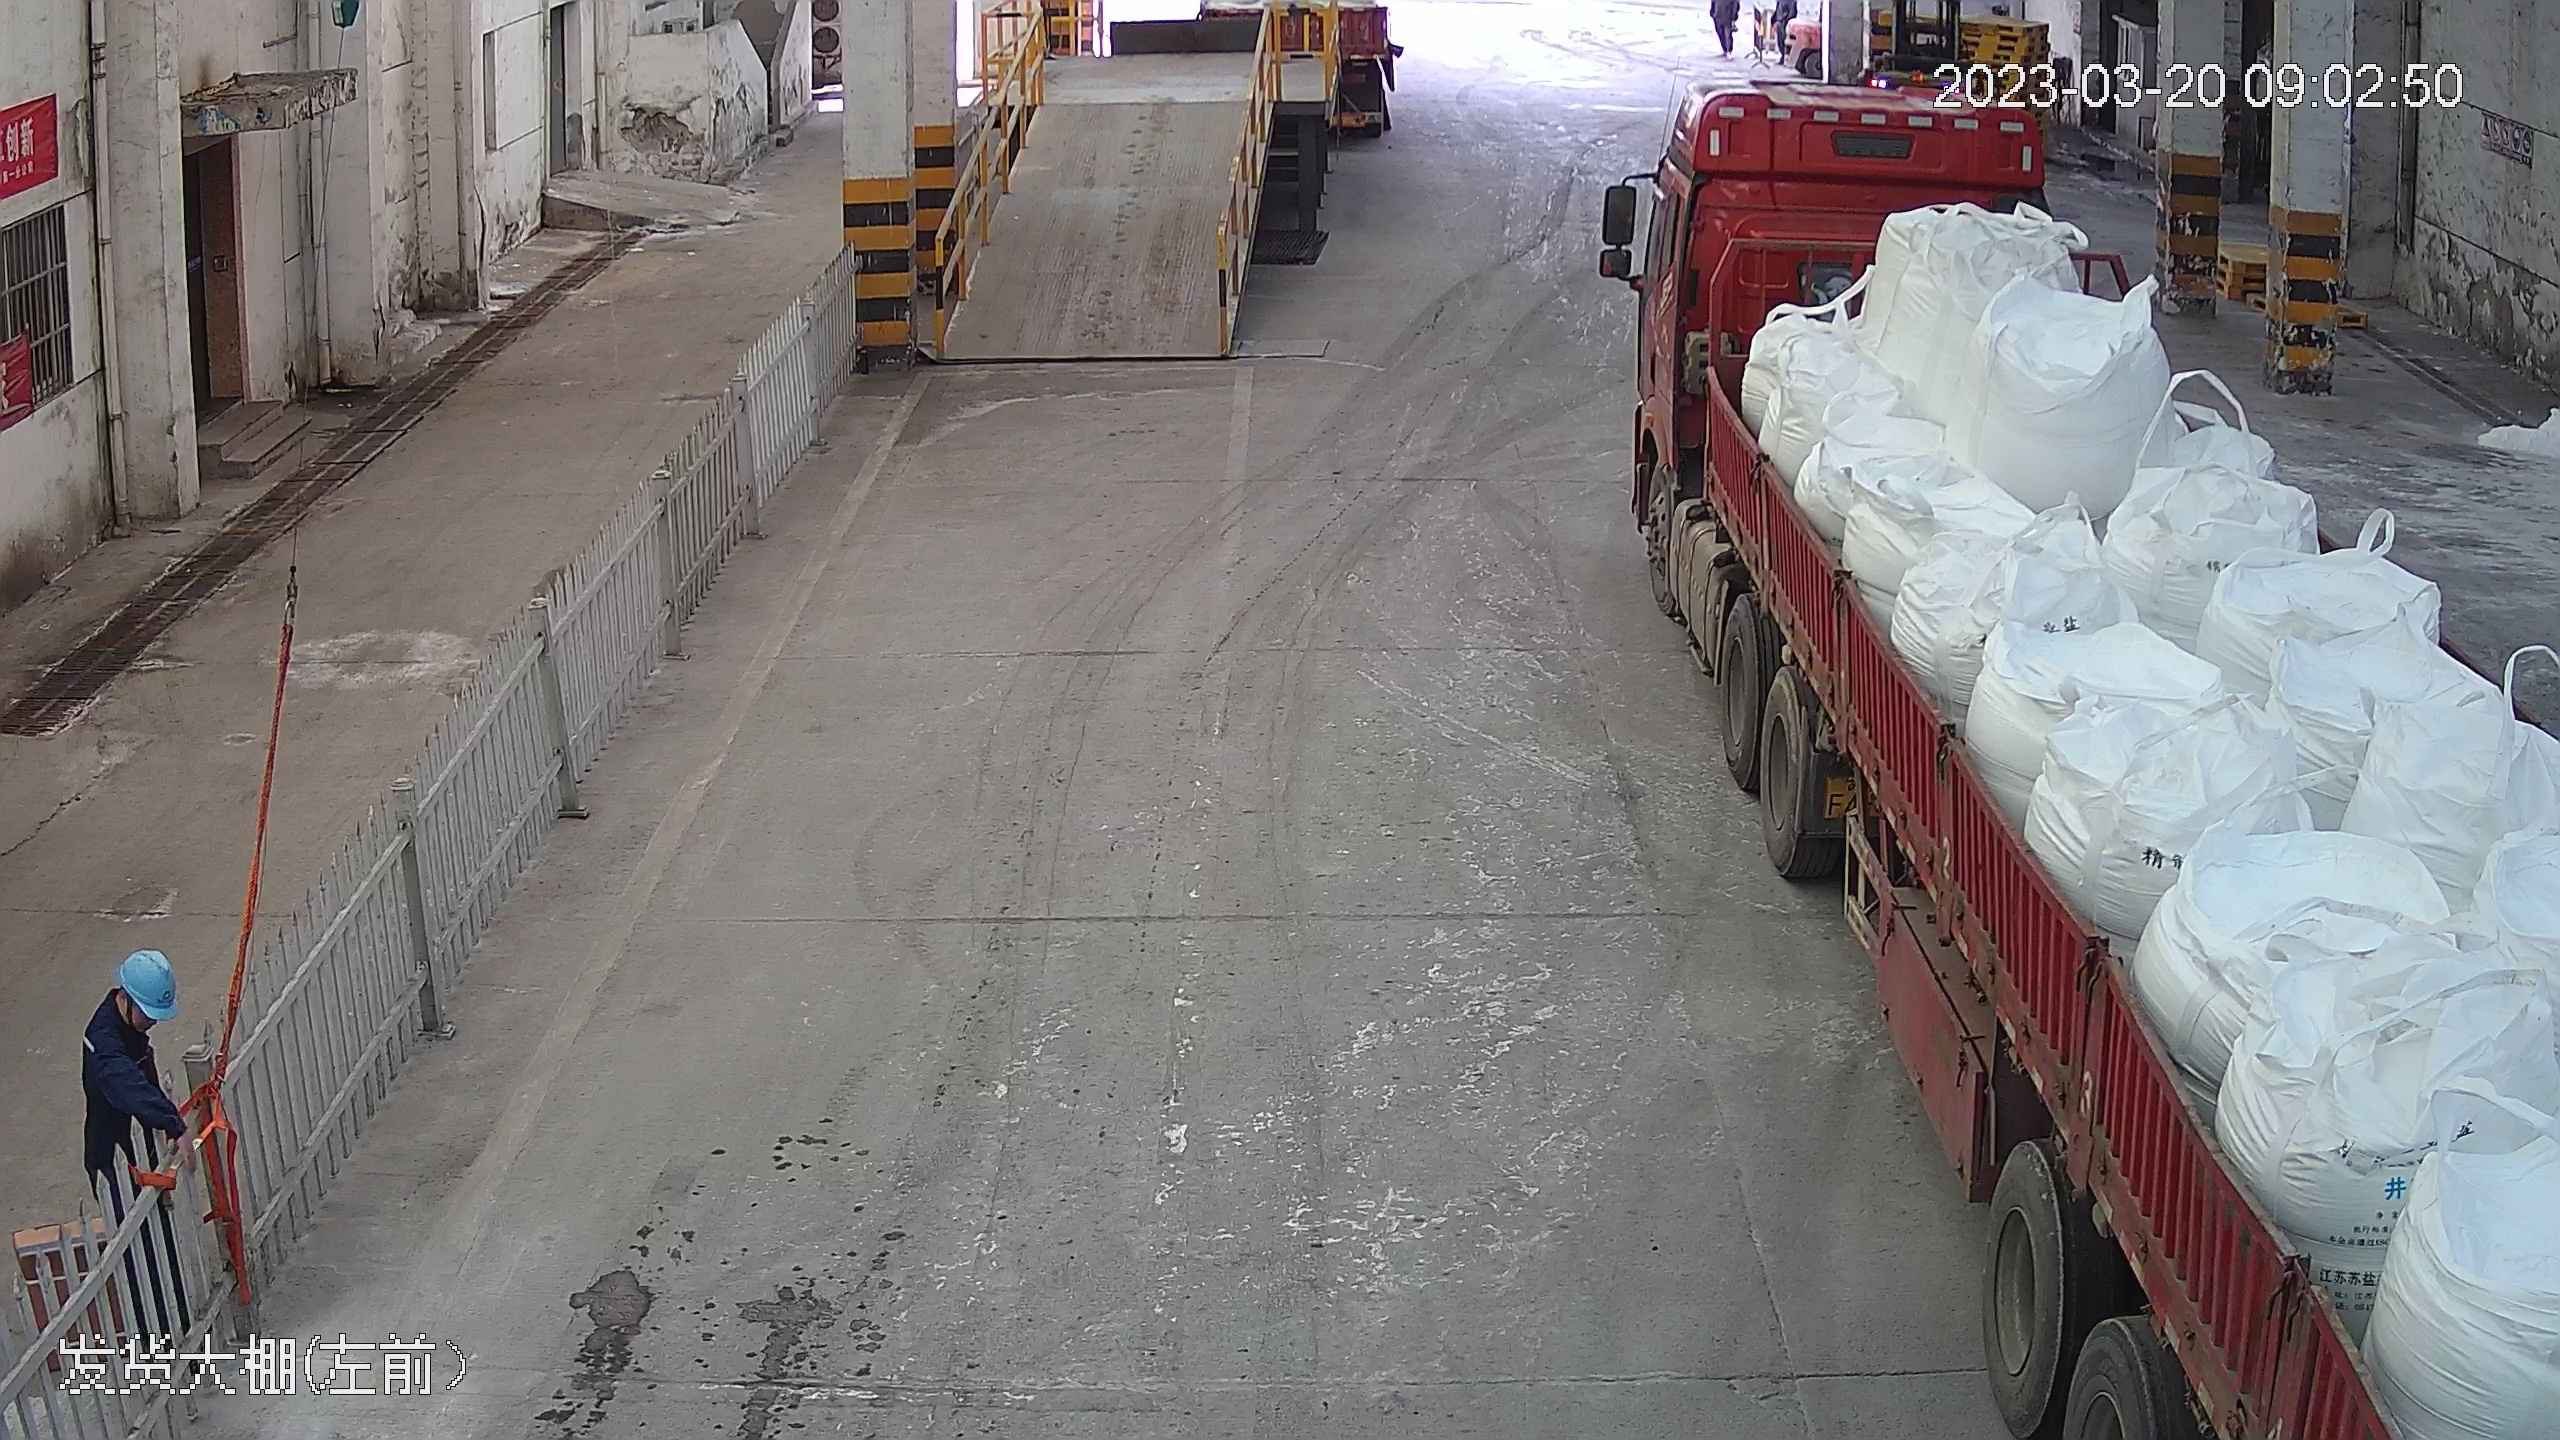head: (90, 946, 180, 1046)
helmet: (114, 945, 178, 1012)
people: (73, 940, 194, 1238), (1709, 1, 1743, 53)
truck: (1599, 50, 2560, 1440)
